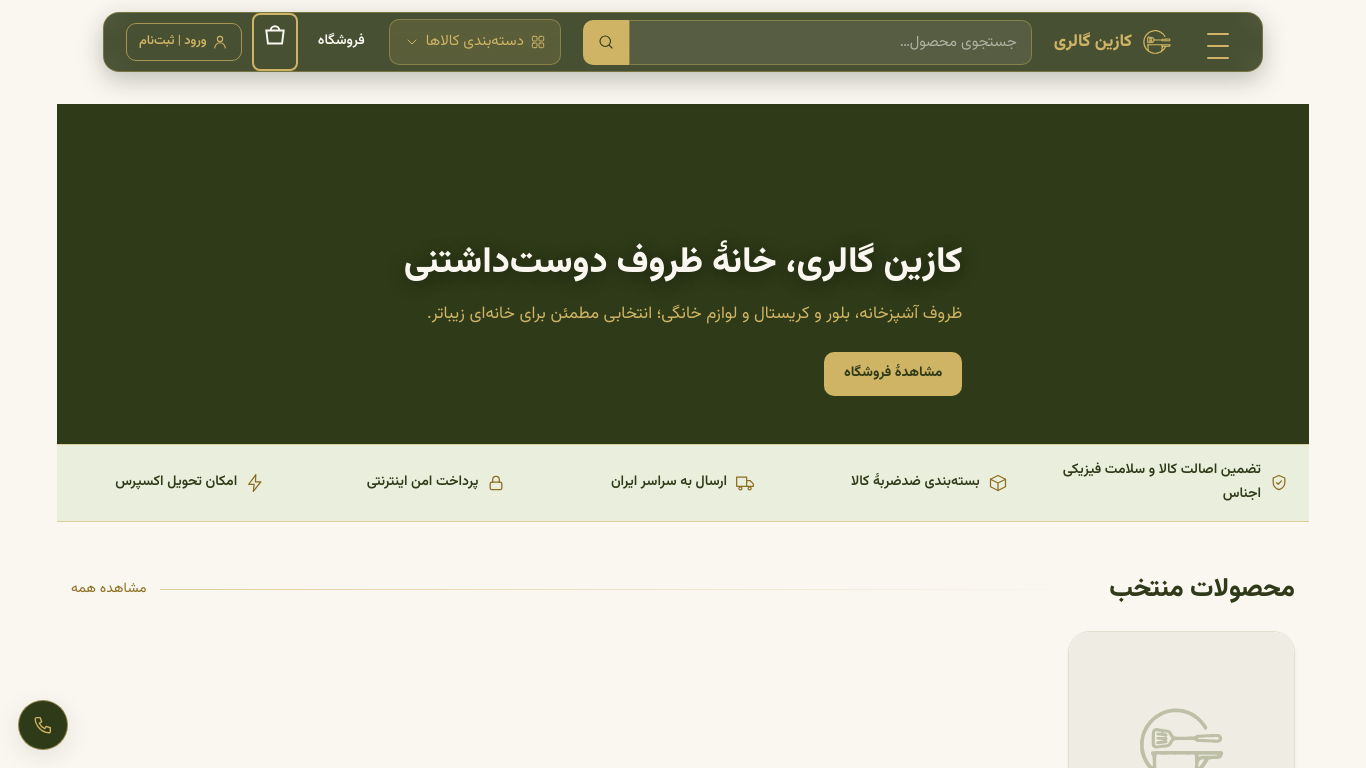
Test: full-viewport overlays while the page is scrolled › keeps the focus trap, Escape and focus restore working through the portal
The image size is (1366, 768).
(page scrolled)
Expected: the header with class "site-header--compact" is shown, x1=103 y1=12 x2=1263 y2=72
Click the button with class "cart-link" at {"x": 275, "y": 42}, box x1=256 y1=17 x2=294 y2=67
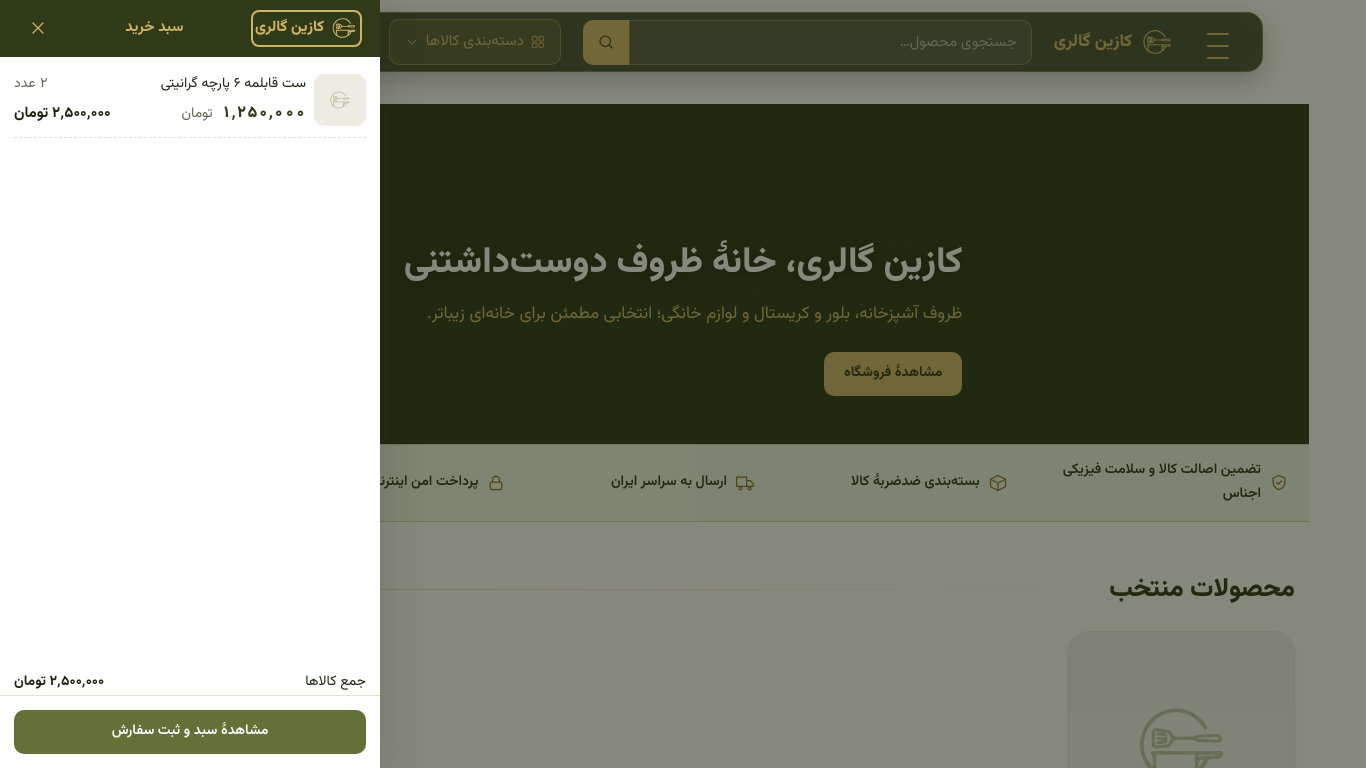
Result: the dialog with class "minicart" is shown
Press Escape in the link "کازین گالری", box x1=255 y1=14 x2=358 y2=42
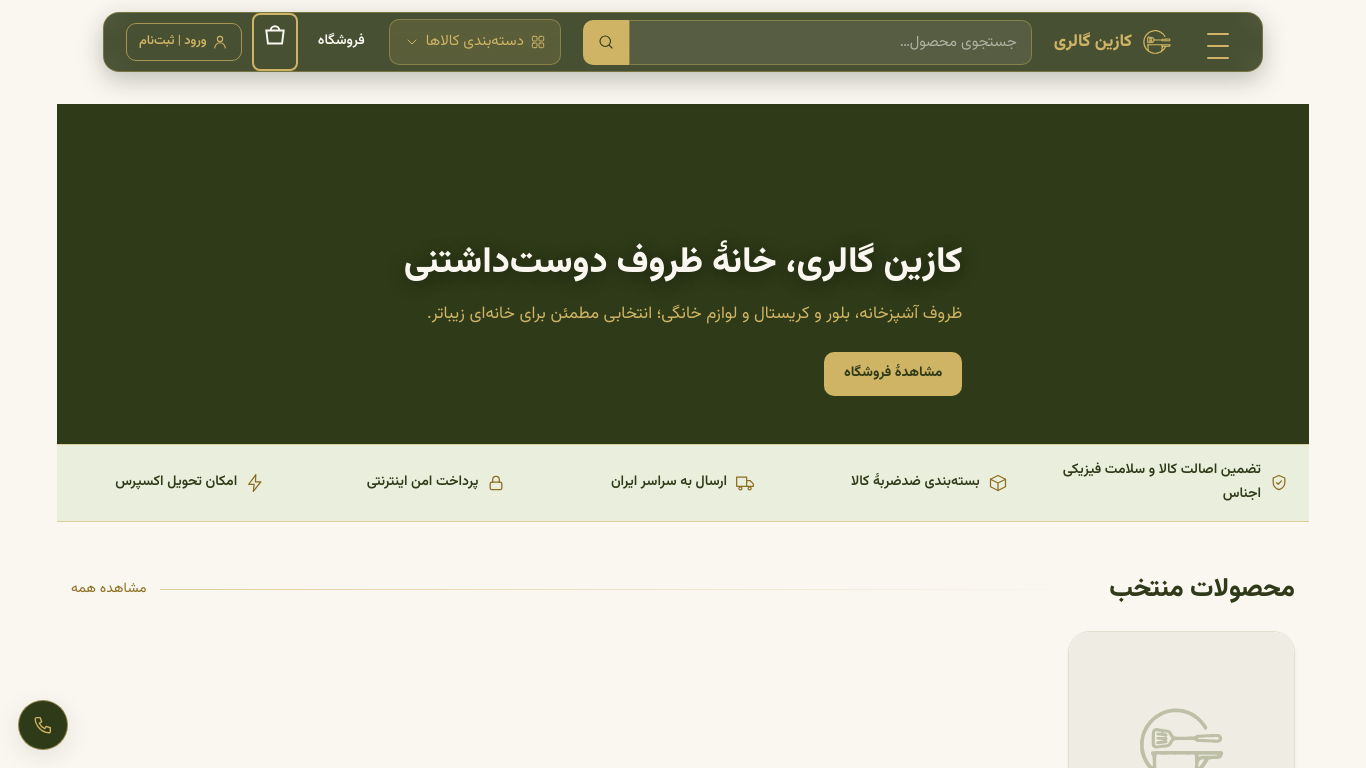
Result: the dialog with class "minicart" is gone
